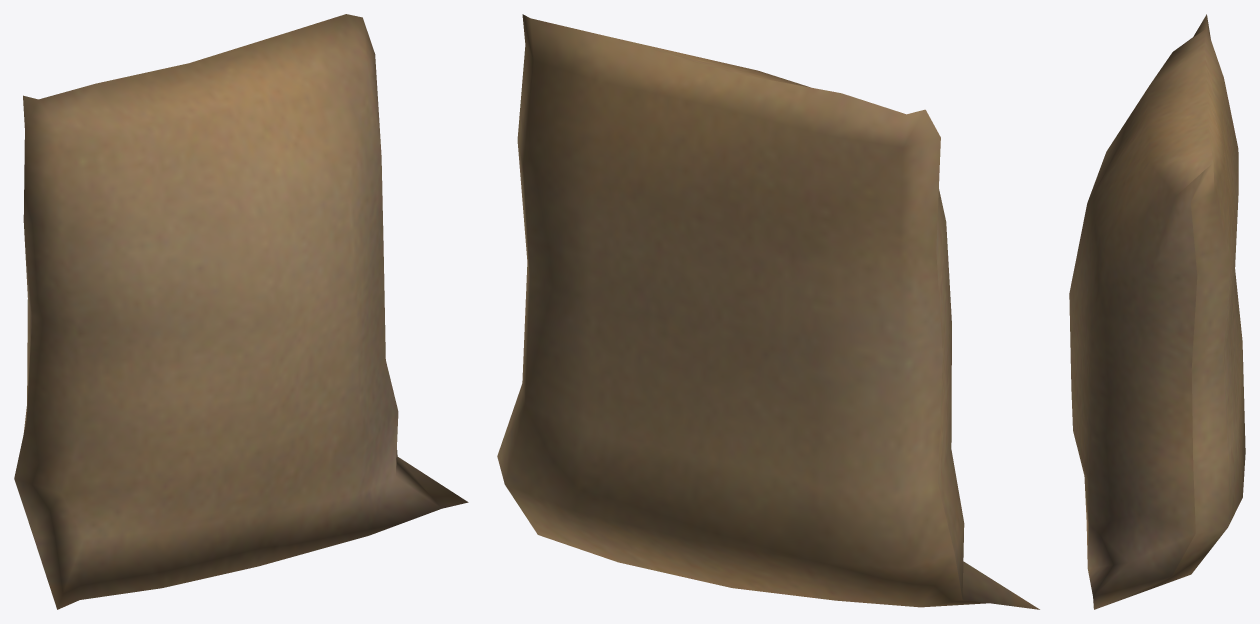
The model's file is sack.fbx.
The picture shows the model from 3 angles, left to right: view 1: azimuth 30°, elevation 25°; view 2: azimuth 150°, elevation 25°; view 3: azimuth 270°, elevation 25°; orthographic projection. The views are drawn at different scales.
Parts seen in each view (by area): view 1: sack; view 2: sack; view 3: sack.
Part boxes in pixels (x1,y1,x2,y2): sack: (14,14,468,609); sack: (497,14,1039,609); sack: (1069,14,1245,609).
Size of the model in its own units: 59.87 by 63.98 by 23.75.
